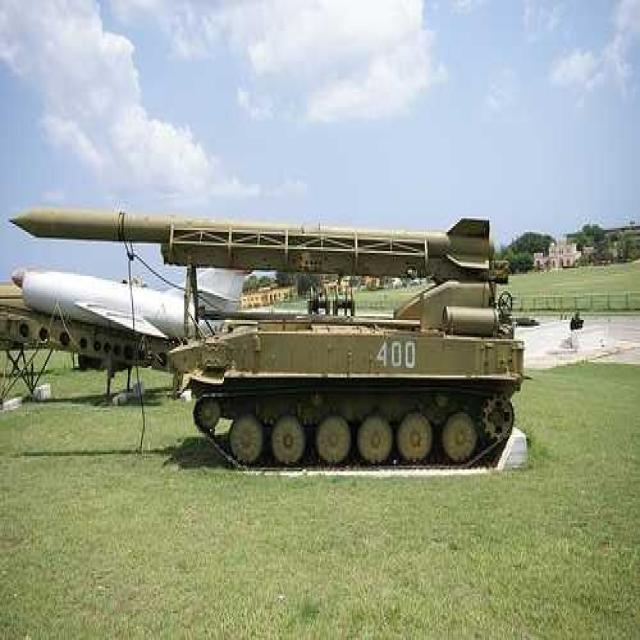missile: (12, 200, 500, 288)
